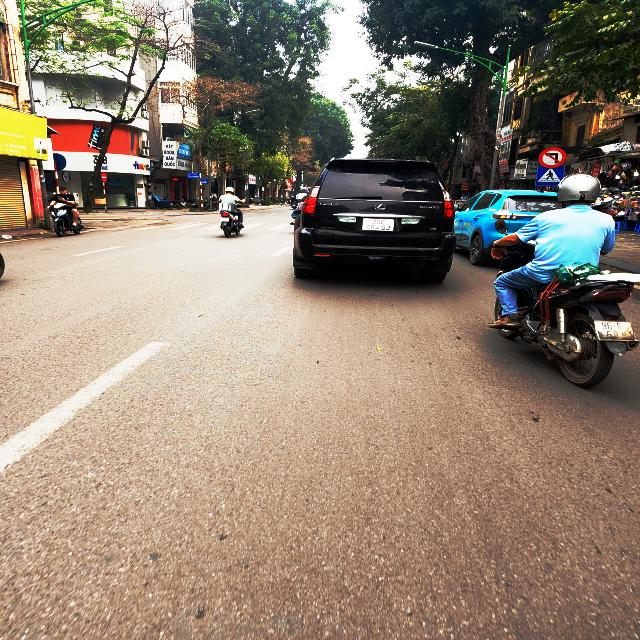license_plate: (363, 218, 395, 232)
